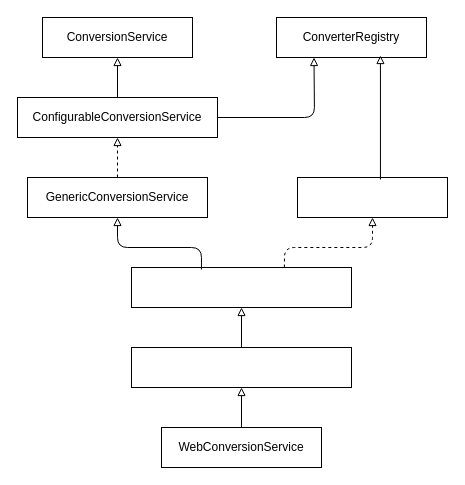
Image size: 465x485. Some labels were removed from this diagram. Here are the shapes that lost their labels. From the top down, the centre of each, then its label:
point 372,197: FormatterRegistry
point 241,287: FormattingConversionService
point 241,367: DefaultFormattingConversionService
